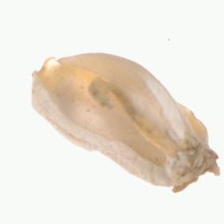L1: (169, 144, 219, 191), (29, 52, 71, 96)
L2: (31, 52, 217, 193)
